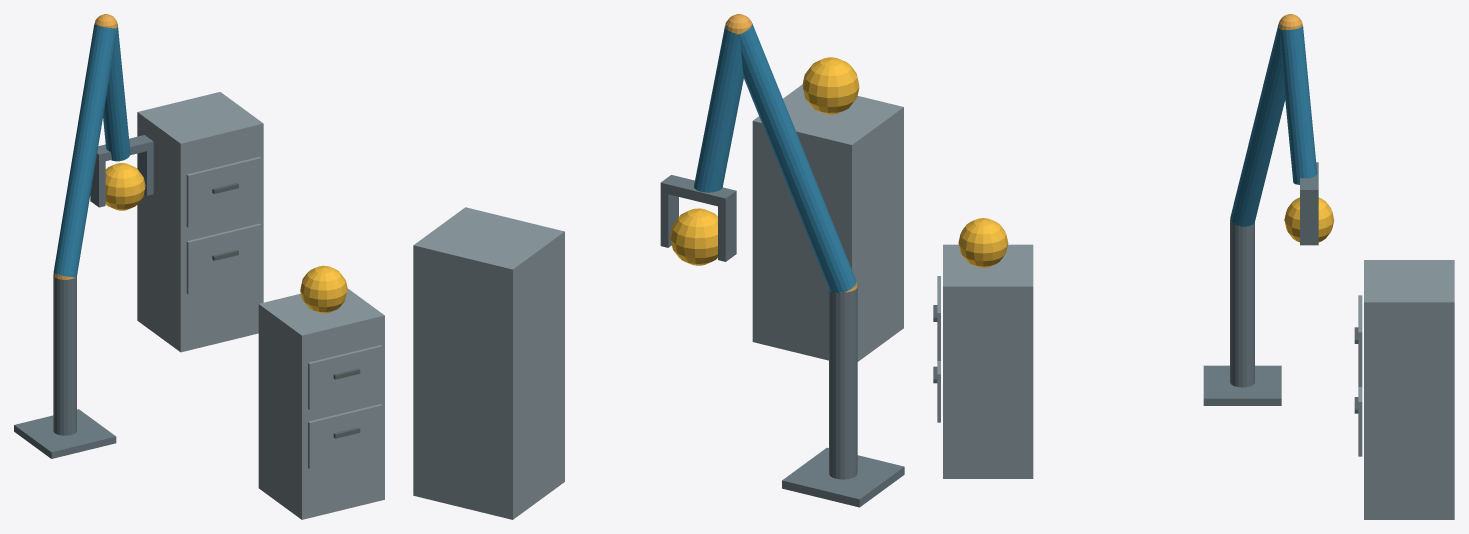
3 views of the same model, side by side, from view 1: azimuth 30°, elevation 25°; view 2: azimuth 150°, elevation 25°; view 3: azimuth 270°, elevation 25° (orthographic). The views are drawn at different scales.
Parts seen in each view (by area): view 1: cabinet_2 body, cabinet_1 body, moving link 1, cabinet_2 drawer front, cabinet_2 drawer front.001, fixed post, cabinet_1 drawer front, cabinet_1 drawer front.001, pedestal, moving link 2, released ball_1, ball ball_2 (+3 smaller); view 2: cabinet_2 body, cabinet_1 body, moving link 1, fixed post, moving link 2, pedestal, released ball_1, ball ball_2, gripper bridge, gripper finger -1, gripper finger 1; view 3: cabinet_2 body, cabinet_1 body, moving link 1, fixed post, moving link 2, pedestal, released ball_1, ball ball_2, gripper finger 1.
Boxes of the visible parts, x1,y1,x2,y2 form: cabinet_2 body: (137, 92, 263, 352); cabinet_1 body: (258, 288, 384, 519); moving link 1: (53, 24, 116, 277); cabinet_2 drawer front: (186, 223, 261, 294); cabinet_2 drawer front.001: (186, 157, 261, 227); fixed post: (53, 274, 76, 435); cabinet_1 drawer front: (308, 404, 382, 468); cabinet_1 drawer front.001: (308, 345, 382, 409); pedestal: (14, 409, 116, 458); moving link 2: (103, 24, 130, 161); released ball_1: (300, 265, 347, 313); ball ball_2: (105, 163, 145, 210); cabinet_2 body: (413, 207, 564, 519); cabinet_1 body: (752, 84, 903, 361); moving link 1: (739, 23, 856, 293); fixed post: (829, 286, 857, 479); moving link 2: (694, 25, 743, 192); pedestal: (782, 447, 904, 507); released ball_1: (802, 57, 859, 114); ball ball_2: (670, 208, 717, 265); gripper bridge: (660, 175, 736, 208); gripper finger -1: (718, 200, 736, 261); gripper finger 1: (660, 192, 678, 247); cabinet_2 body: (1364, 260, 1454, 519); cabinet_1 body: (943, 244, 1033, 478); moving link 1: (1230, 23, 1285, 226); fixed post: (1230, 220, 1254, 387); moving link 2: (1280, 26, 1317, 184); pedestal: (1203, 365, 1281, 405); released ball_1: (958, 218, 1008, 267); ball ball_2: (1284, 197, 1334, 242); gripper finger 1: (1300, 198, 1318, 245).
Bounding box in the file's own units: 1.12 × 1.44 × 1.67.
